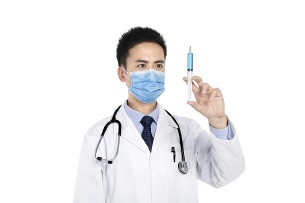Mask: (123, 57, 168, 102)
